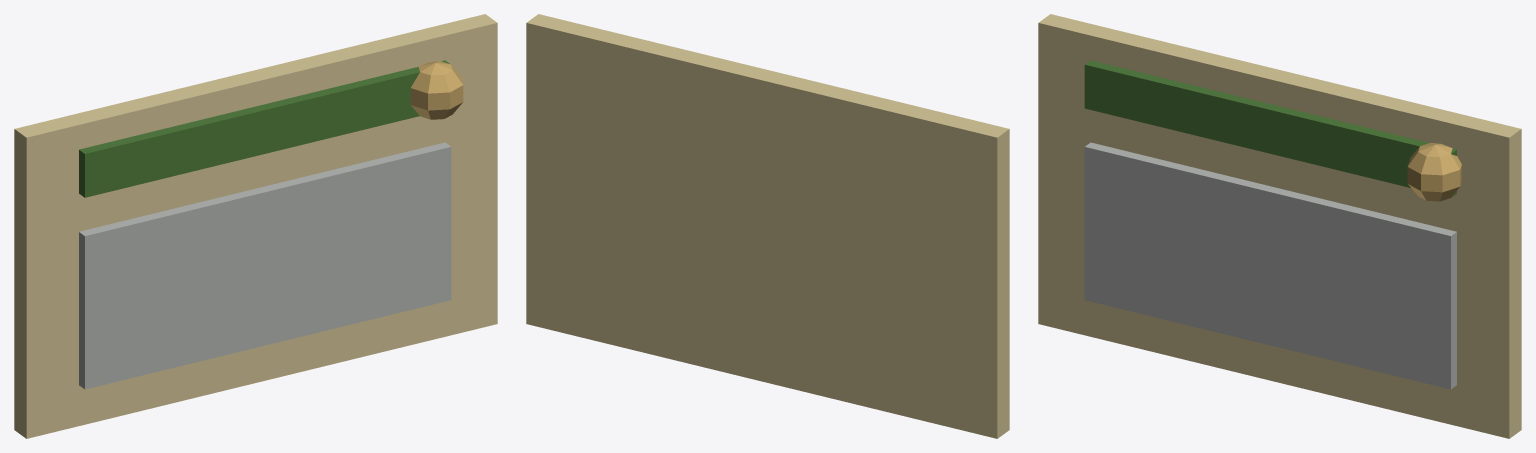
The model's file is ticket-penny.glb.
3 views of the same model, side by side, from view 1: azimuth 30°, elevation 25°; view 2: azimuth 150°, elevation 25°; view 3: azimuth 330°, elevation 25° (orthographic).
Visible parts, largest first — view 1: ticket-penny; view 2: ticket-penny; view 3: ticket-penny.
Boxes of the visible parts, left/top/right/bottom form: ticket-penny: left=14, top=14, right=497, bottom=438; ticket-penny: left=526, top=14, right=1009, bottom=438; ticket-penny: left=1038, top=14, right=1521, bottom=438.
Size of the model in its own units: 0.9 by 0.55 by 0.1076.
